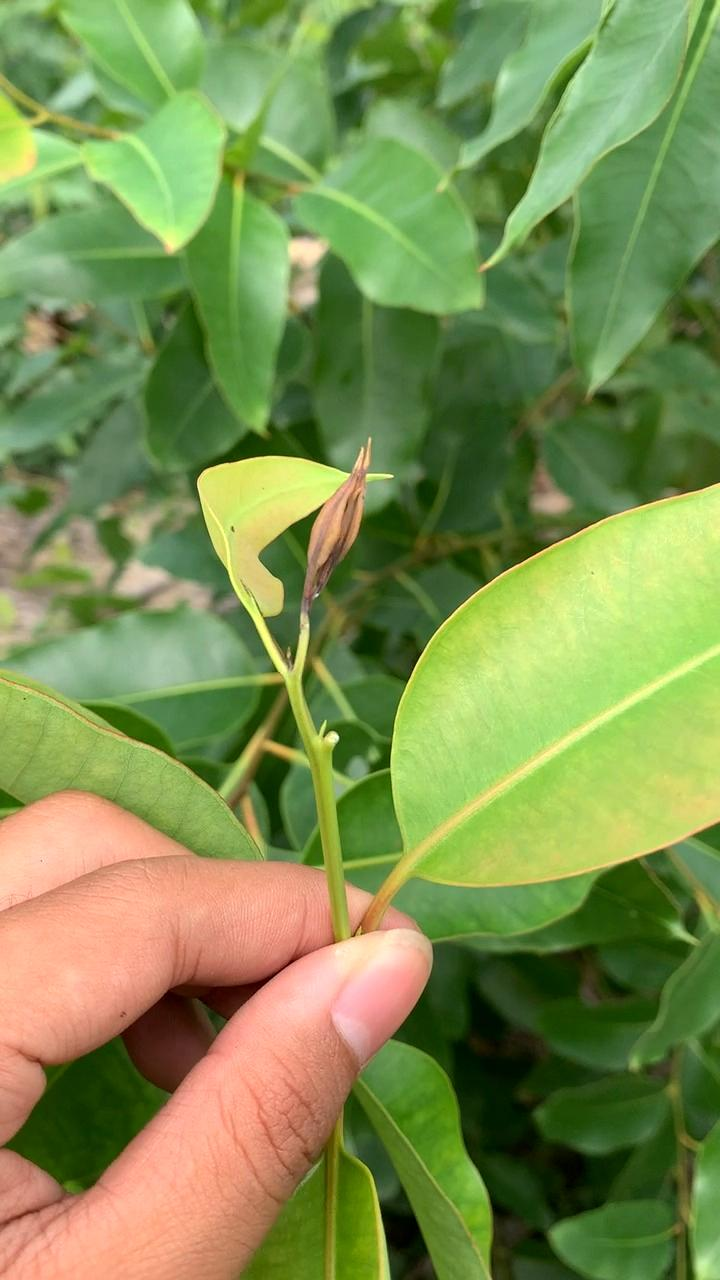Helopeltis-Withered Sprout: (235, 438, 416, 685)
